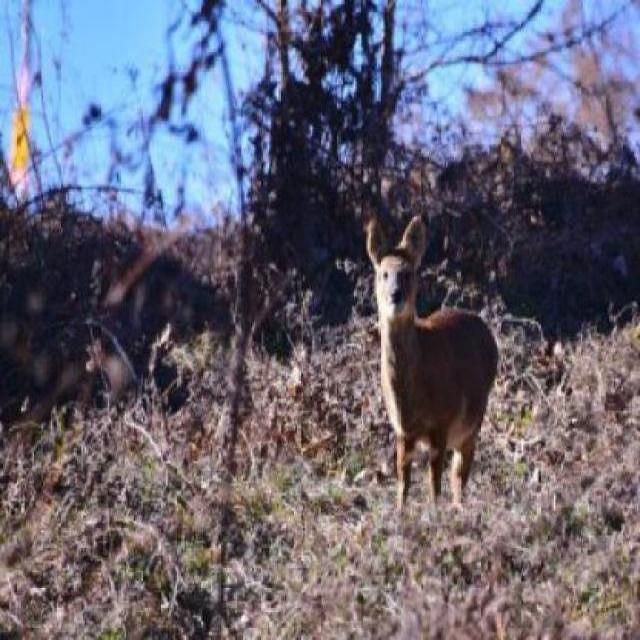deer: (365, 207, 503, 521)
